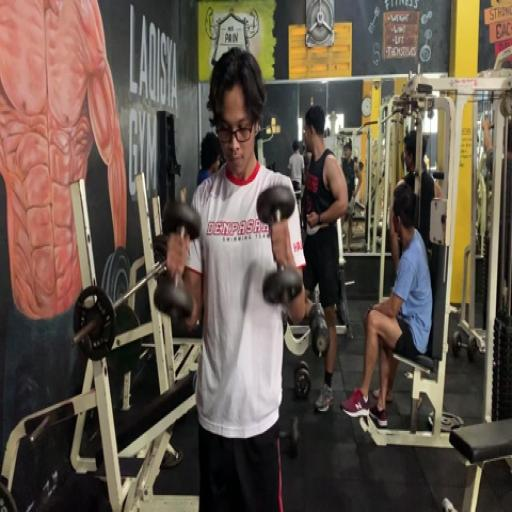exercise: (164, 46, 310, 510), (338, 182, 435, 431), (297, 102, 352, 417)
